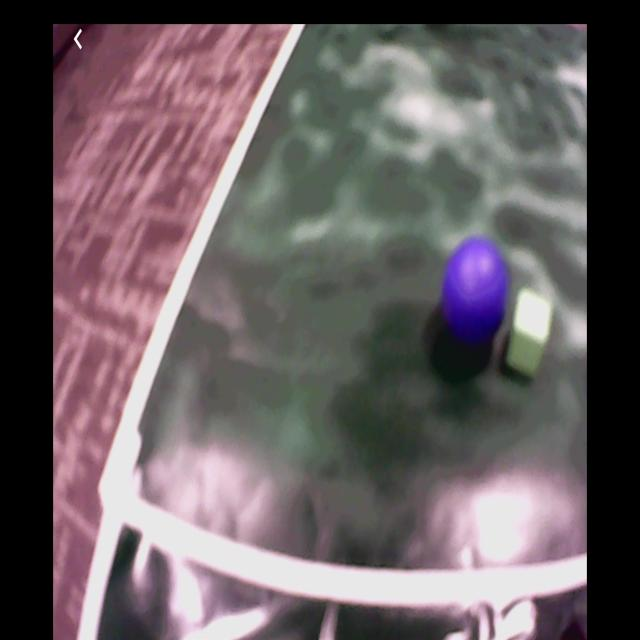ball: (443, 238, 510, 340)
